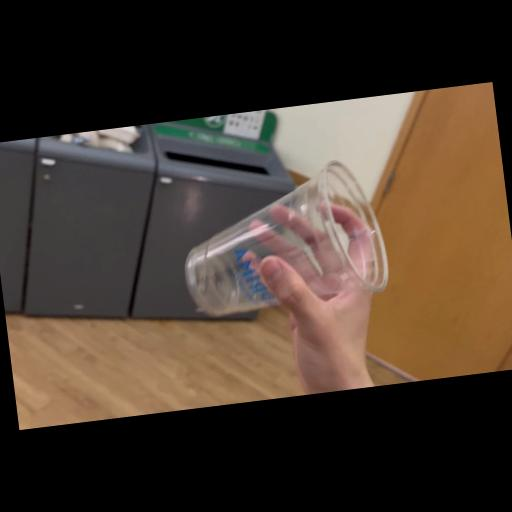lp_plastic_cup: (172, 156, 386, 320)
